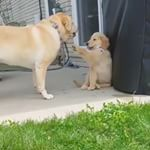puppy: (1, 8, 79, 101), (78, 30, 113, 92)
